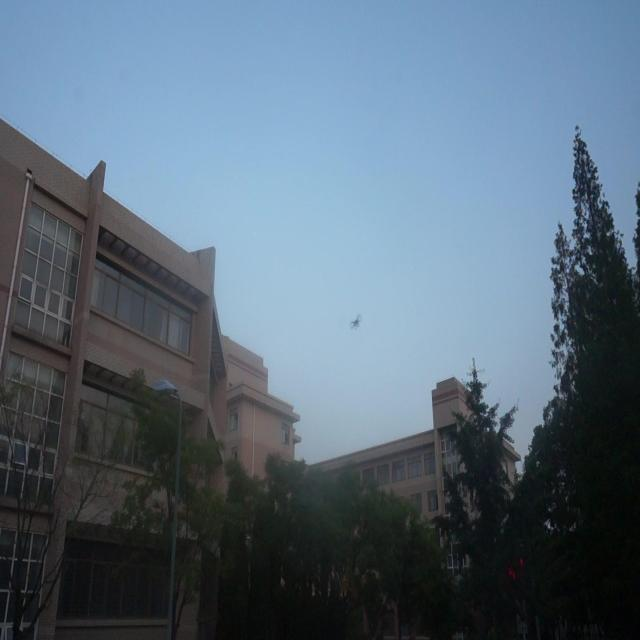drone: (346, 310, 366, 332)
